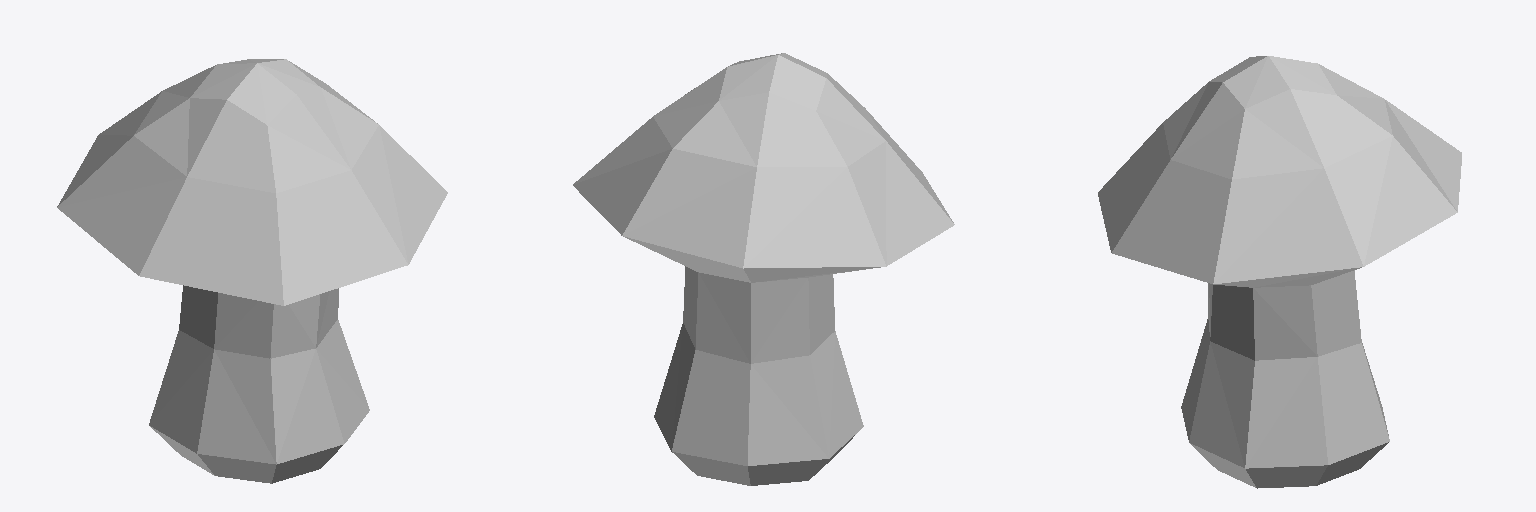
Rendered from maaa.obj.
3 views of the same model, side by side, from view 1: azimuth 30°, elevation 25°; view 2: azimuth 150°, elevation 25°; view 3: azimuth 270°, elevation 25° (orthographic).
Visible parts, largest first — view 1: big_mushroom_mdl; view 2: big_mushroom_mdl; view 3: big_mushroom_mdl.
Part boxes in pixels (bbox=[...]): big_mushroom_mdl: bbox=[57, 59, 447, 483]; big_mushroom_mdl: bbox=[573, 53, 954, 485]; big_mushroom_mdl: bbox=[1098, 56, 1461, 488].
Bounding box in the file's own units: 2.87 × 3.42 × 2.85.